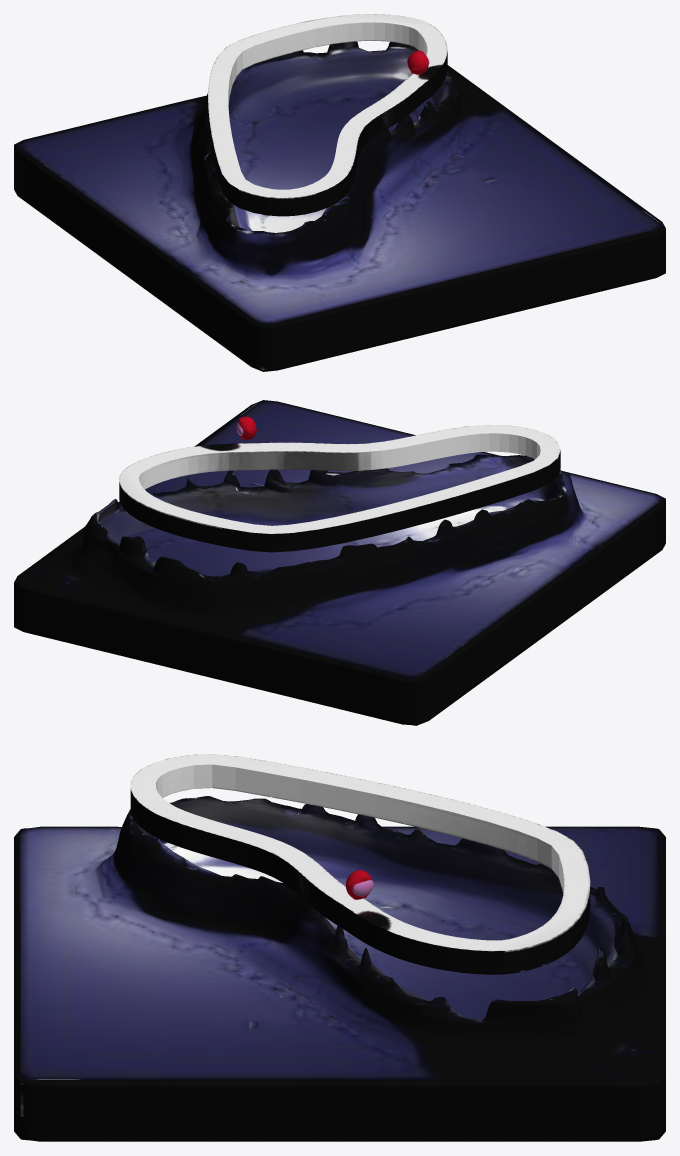
File: noel.glb
The picture shows the model from 3 angles, top to bottom: view 1: azimuth 30°, elevation 25°; view 2: azimuth 150°, elevation 25°; view 3: azimuth 270°, elevation 25°; orthographic projection. The views are drawn at different scales.
Visible parts, largest first — view 1: track_1, track_path.001; view 2: track_1, track_path.001; view 3: track_1, track_path.001.
Boxes of the visible parts, bbox=[...] form: track_1: bbox=[14, 41, 665, 371]; track_path.001: bbox=[208, 14, 447, 216]; track_1: bbox=[14, 400, 665, 725]; track_path.001: bbox=[119, 425, 560, 552]; track_1: bbox=[14, 796, 665, 1141]; track_path.001: bbox=[130, 754, 590, 974].
Size of the model in its own units: 5.42 by 1.95 by 5.8.
7 materials, 2 textured.
